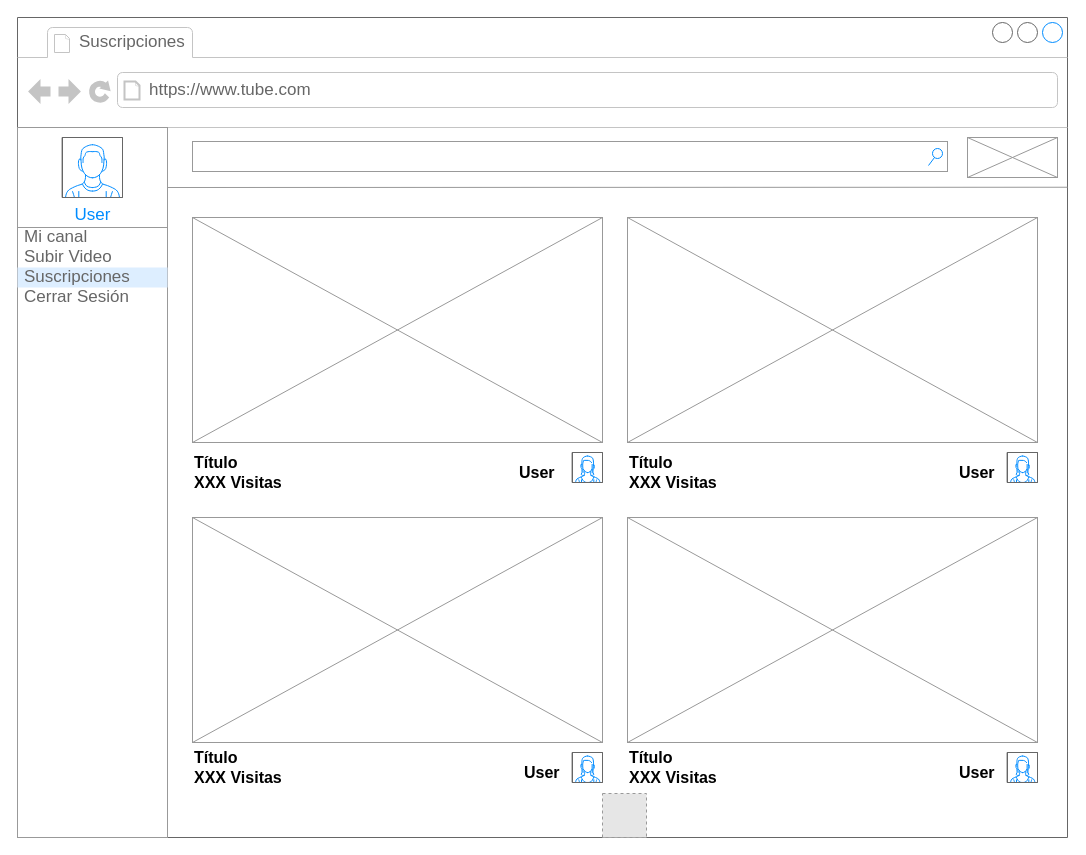
The diagram is 1086 pixels wide and 855 high, and some of its shapes have lost their labels. Grey dashed boxes stand in for pictures. Each missing label, with the box of its shape:
Logo: (966, 136, 1058, 178)
Search: (192, 140, 948, 172)
